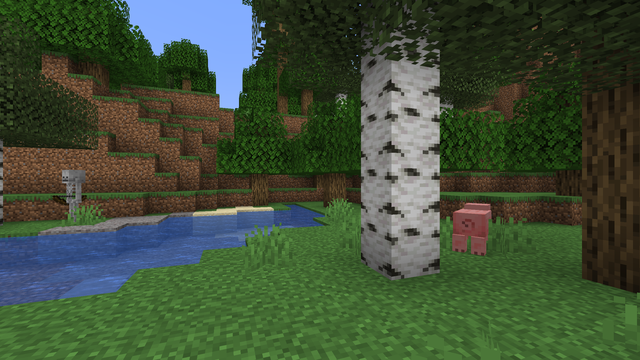cochons: (443, 207, 505, 254)
squelettes: (59, 169, 87, 222)
